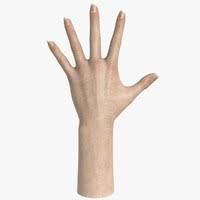hand: (41, 0, 174, 143)
